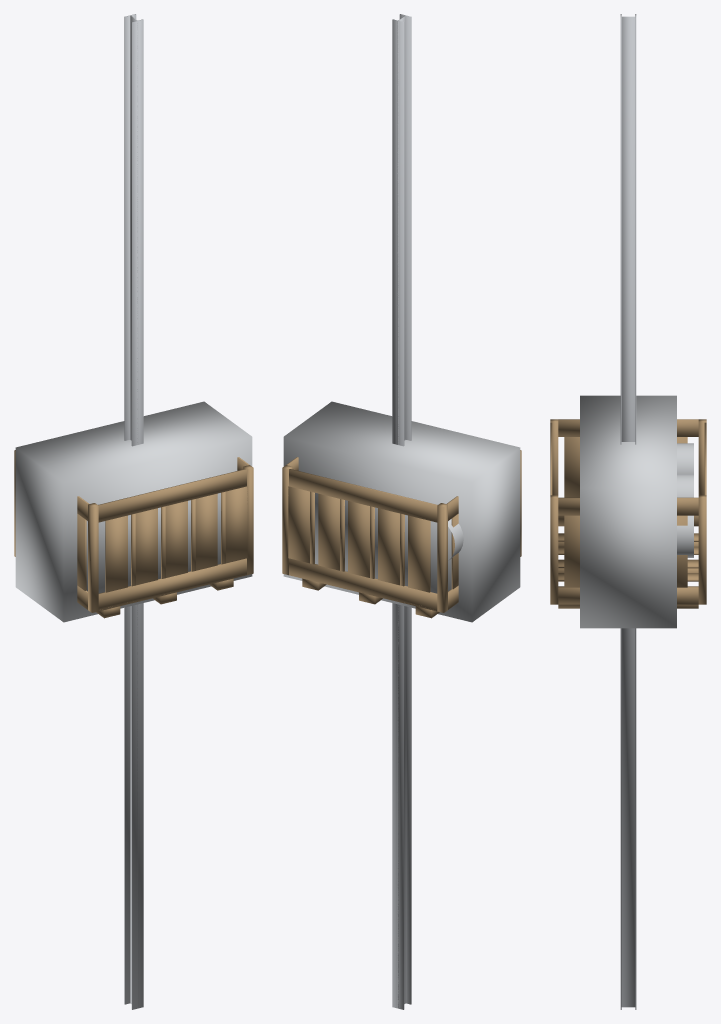
Rendered from coldstore_kit.glb.
3 views of the same model, side by side, from view 1: azimuth 30°, elevation 25°; view 2: azimuth 150°, elevation 25°; view 3: azimuth 270°, elevation 25° (orthographic).
Visible parts, largest first — view 1: Kit_Evaporator, Kit_Pallet_Bin, Kit_Rack_Post; view 2: Kit_Evaporator, Kit_Pallet_Bin, Kit_Rack_Post; view 3: Kit_Evaporator, Kit_Rack_Post, Kit_Pallet_Bin.
Part boxes in pixels (x1,y1,x2,y2): Kit_Evaporator: (15,401,252,622); Kit_Pallet_Bin: (14,450,253,618); Kit_Rack_Post: (124,14,143,1009); Kit_Evaporator: (283,401,520,622); Kit_Pallet_Bin: (282,450,521,618); Kit_Rack_Post: (392,14,411,1009); Kit_Evaporator: (580,395,693,628); Kit_Rack_Post: (620,14,636,1009); Kit_Pallet_Bin: (550,419,706,608).
Bounding box in the file's own units: 1.4 × 7 × 1.
